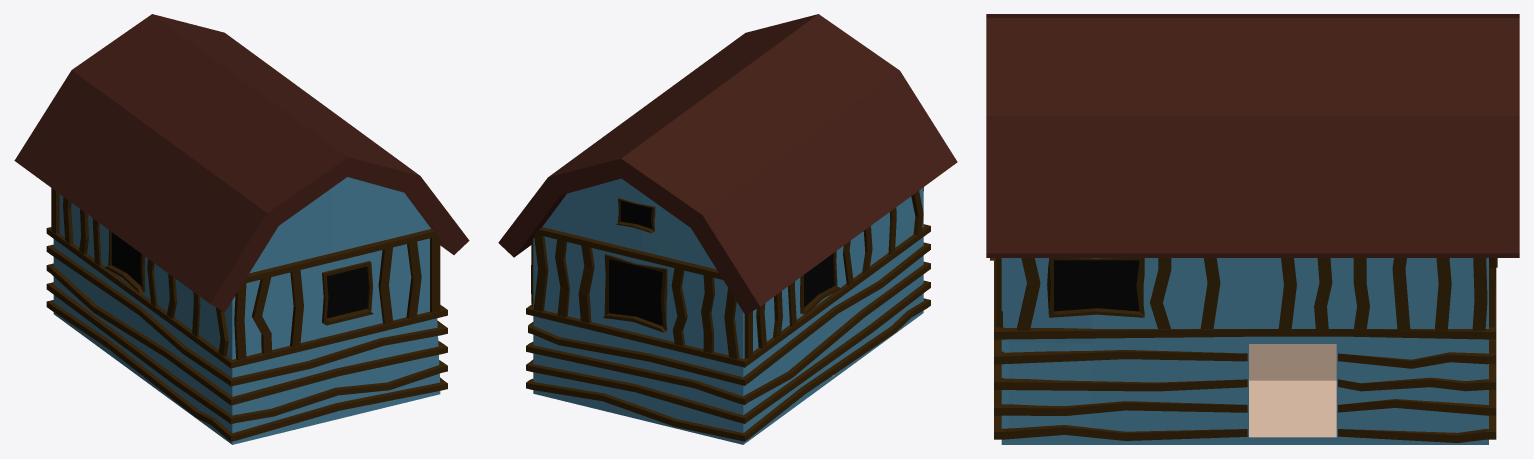
Rendered from house.fbx.
3 renders of one model, left to right at view 1: azimuth 30°, elevation 25°; view 2: azimuth 150°, elevation 25°; view 3: azimuth 270°, elevation 25°, orthographic. The views are drawn at different scales.
Visible parts, largest first — view 1: Plane.004, Cube.022, Cube.050, Plane.005, Cube.023, Cube.026; view 2: Plane.004, Cube.050, Cube.022, Plane.006, Cube.025, Cube.026, Cube.027; view 3: Plane.004, Cube.022, Cube.050, Cube, Cube.024.
Boxes of the visible parts, box(x1,y1,x2,y2) form: Plane.004: box(14, 14, 469, 312); Cube.022: box(53, 194, 440, 444); Cube.050: box(46, 188, 447, 441); Plane.005: box(249, 177, 430, 273); Cube.023: box(322, 261, 373, 325); Cube.026: box(105, 230, 145, 293); Plane.004: box(498, 14, 957, 314); Cube.050: box(526, 187, 930, 441); Cube.022: box(533, 187, 923, 444); Plane.006: box(542, 178, 716, 269); Cube.025: box(603, 254, 667, 332); Cube.026: box(800, 251, 840, 314); Cube.027: box(616, 198, 655, 233); Plane.004: box(986, 14, 1519, 257); Cube.022: box(1001, 258, 1488, 444); Cube.050: box(994, 258, 1496, 442); Cube: box(1249, 344, 1336, 437); Cube.024: box(1047, 258, 1144, 317).
Bounding box in the file's own units: 6336 × 6186 × 8272.
